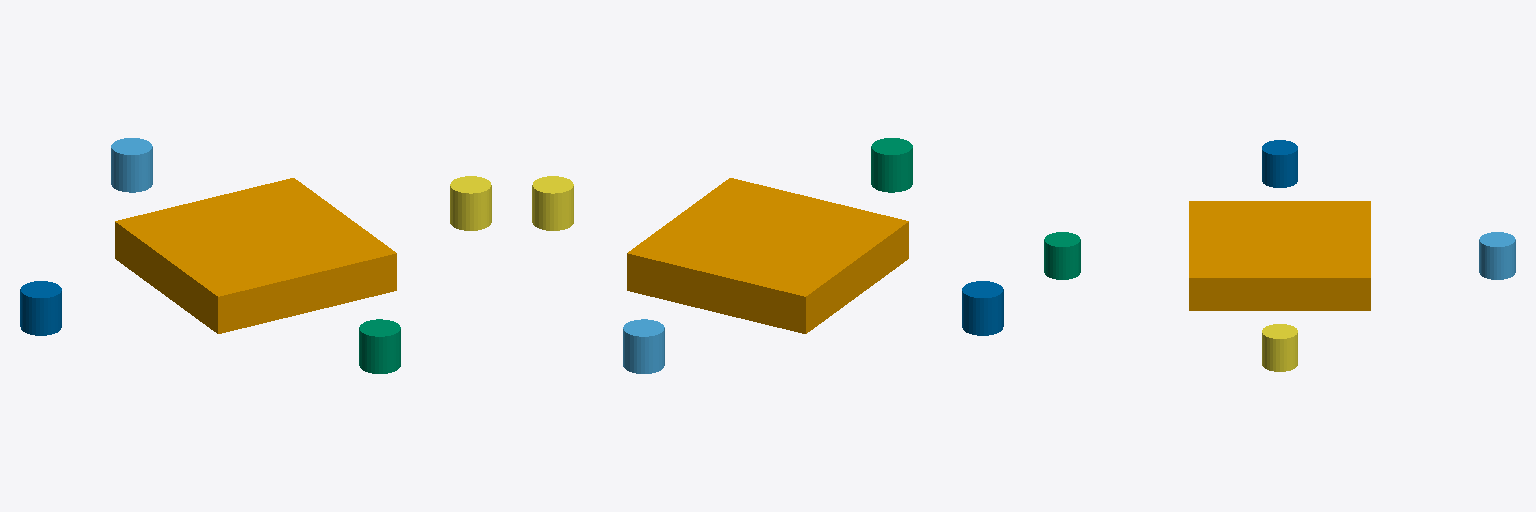
URDF robot description (quadrotor):
<?xml version="1.0"?>
<robot name="quadrotor">

  <!-- Define the link for the body -->
  <link name="body">
    <inertial>
      <mass value="1.0"/>  <!-- Mass of the drone -->
      <origin xyz="0 0 0" rpy="0 0 0"/>  <!-- Position and orientation -->
      <inertia  ixx="0.1" ixy="0" ixz="0" iyy="0.1" iyz="0" izz="0.1"/>
    </inertial>
    <visual>
      <geometry>
        <box size="0.5 0.5 0.1"/>  <!-- Size of the drone body -->
      </geometry>
      <origin xyz="0 0 0" rpy="0 0 0"/>
    </visual>
    <collision>
      <geometry>
        <box size="0.5 0.5 0.1"/>
      </geometry>
      <origin xyz="0 0 0" rpy="0 0 0"/>
    </collision>
  </link>

  <!-- Define the propellers -->
  <link name="propeller1">
    <inertial>
      <mass value="0.1"/>
      <origin xyz="0 0.3 0" rpy="0 0 0"/>
      <inertia  ixx="0.001" ixy="0" ixz="0" iyy="0.001" iyz="0" izz="0.001"/>
    </inertial>
    <visual>
      <geometry>
        <cylinder radius="0.05" length="0.1"/>  <!-- Propeller shape -->
      </geometry>
      <origin xyz="0 0.3 0" rpy="0 0 0"/>
    </visual>
    <collision>
      <geometry>
        <cylinder radius="0.05" length="0.1"/>
      </geometry>
      <origin xyz="0 0.3 0" rpy="0 0 0"/>
    </collision>
  </link>

  <link name="propeller2">
    <inertial>
      <mass value="0.1"/>
      <origin xyz="0 -0.3 0" rpy="0 0 0"/>
      <inertia  ixx="0.001" ixy="0" ixz="0" iyy="0.001" iyz="0" izz="0.001"/>
    </inertial>
    <visual>
      <geometry>
        <cylinder radius="0.05" length="0.1"/>
      </geometry>
      <origin xyz="0 -0.3 0" rpy="0 0 0"/>
    </visual>
    <collision>
      <geometry>
        <cylinder radius="0.05" length="0.1"/>
      </geometry>
      <origin xyz="0 -0.3 0" rpy="0 0 0"/>
    </collision>
  </link>

  <link name="propeller3">
    <inertial>
      <mass value="0.1"/>
      <origin xyz="0.3 0 0" rpy="0 0 0"/>
      <inertia  ixx="0.001" ixy="0" ixz="0" iyy="0.001" iyz="0" izz="0.001"/>
    </inertial>
    <visual>
      <geometry>
        <cylinder radius="0.05" length="0.1"/>
      </geometry>
      <origin xyz="0.3 0 0" rpy="0 0 0"/>
    </visual>
    <collision>
      <geometry>
        <cylinder radius="0.05" length="0.1"/>
      </geometry>
      <origin xyz="0.3 0 0" rpy="0 0 0"/>
    </collision>
  </link>

  <link name="propeller4">
    <inertial>
      <mass value="0.1"/>
      <origin xyz="-0.3 0 0" rpy="0 0 0"/>
      <inertia  ixx="0.001" ixy="0" ixz="0" iyy="0.001" iyz="0" izz="0.001"/>
    </inertial>
    <visual>
      <geometry>
        <cylinder radius="0.05" length="0.1"/>
      </geometry>
      <origin xyz="-0.3 0 0" rpy="0 0 0"/>
    </visual>
    <collision>
      <geometry>
        <cylinder radius="0.05" length="0.1"/>
      </geometry>
      <origin xyz="-0.3 0 0" rpy="0 0 0"/>
    </collision>
  </link>

  <!-- Define the joints that connect the body to the propellers -->
  <joint name="joint1" type="revolute">
    <parent link="body"/>
    <child link="propeller1"/>
    <origin xyz="0 0.3 0" rpy="0 0 0"/>
    <axis xyz="0 0 1"/>
  </joint>

  <joint name="joint2" type="revolute">
    <parent link="body"/>
    <child link="propeller2"/>
    <origin xyz="0 -0.3 0" rpy="0 0 0"/>
    <axis xyz="0 0 1"/>
  </joint>

  <joint name="joint3" type="revolute">
    <parent link="body"/>
    <child link="propeller3"/>
    <origin xyz="0.3 0 0" rpy="0 0 0"/>
    <axis xyz="0 0 1"/>
  </joint>

  <joint name="joint4" type="revolute">
    <parent link="body"/>
    <child link="propeller4"/>
    <origin xyz="-0.3 0 0" rpy="0 0 0"/>
    <axis xyz="0 0 1"/>
  </joint>

</robot>

--- What the picture shows (computed from the rendered views, not written in the file) ---
The picture shows the robot from 3 angles, left to right: view 1: azimuth 30°, elevation 25°; view 2: azimuth 150°, elevation 25°; view 3: azimuth 270°, elevation 25°; orthographic projection.
Model quadrotor with 5 links and 4 joints (4 revolute), rooted at body, posed all joints at 0.
Visible links, largest first — view 1: body, propeller3, propeller4, propeller1, propeller2; view 2: body, propeller3, propeller4, propeller1, propeller2; view 3: body, propeller1, propeller2, propeller3, propeller4.
Boxes of the visible links, box(x1,y1,x2,y2) form: body: box(115, 178, 396, 333); propeller3: box(450, 176, 491, 230); propeller4: box(20, 281, 61, 335); propeller1: box(111, 138, 152, 192); propeller2: box(359, 319, 400, 373); body: box(627, 178, 908, 333); propeller3: box(532, 176, 573, 230); propeller4: box(962, 281, 1003, 335); propeller1: box(623, 319, 664, 373); propeller2: box(871, 138, 912, 192); body: box(1189, 201, 1370, 310); propeller1: box(1479, 232, 1515, 279); propeller2: box(1044, 232, 1080, 279); propeller3: box(1262, 324, 1297, 371); propeller4: box(1262, 140, 1297, 187).
Bounding box of the posed robot: 1.3 × 1.3 × 0.1 m (x, y, z).
Geometry: primitives only (box / cylinder / sphere), no mesh files.